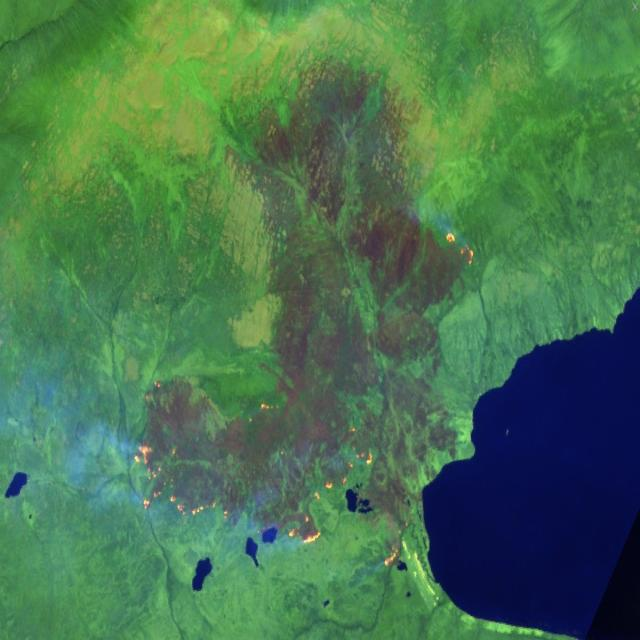fire: (129, 440, 408, 573), (438, 215, 482, 274)
